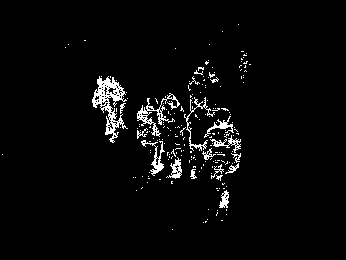person: (204, 106, 243, 218), (157, 91, 186, 182), (186, 94, 216, 181), (136, 97, 164, 176), (101, 76, 127, 133)
